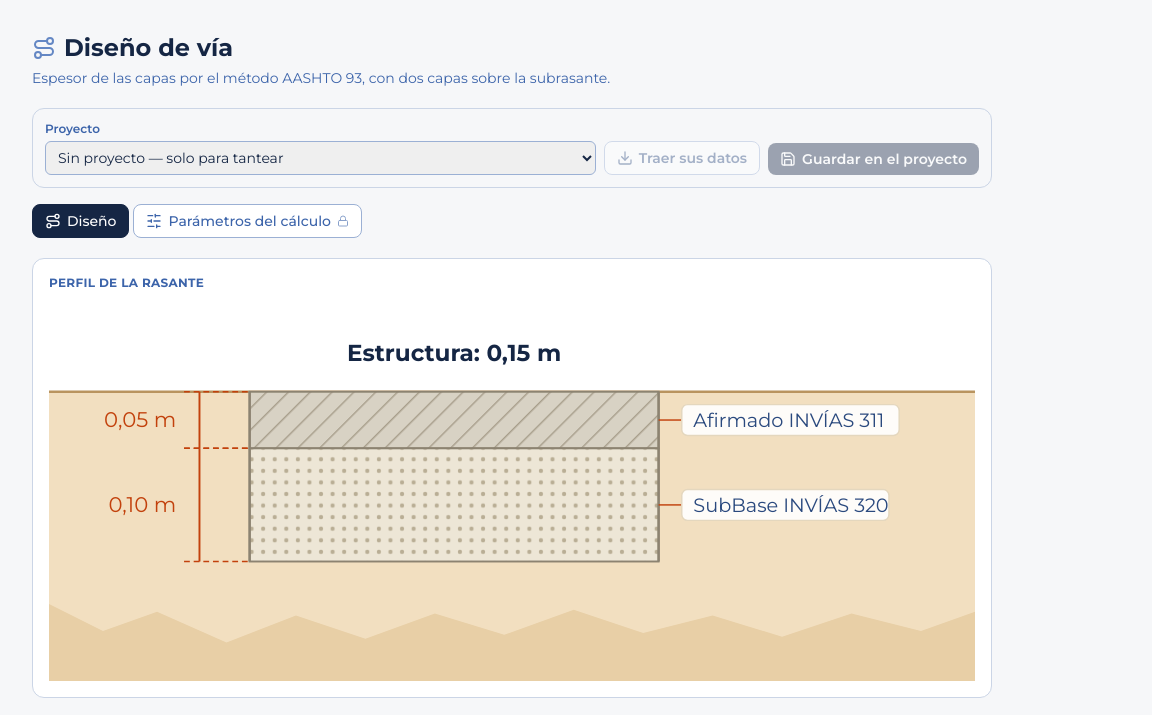
la pantalla › los parámetros del cálculo están en la otra pestaña
Click the button "Parámetros del cálculo": (248,221) [134,204,362,238]
(page scrolled)
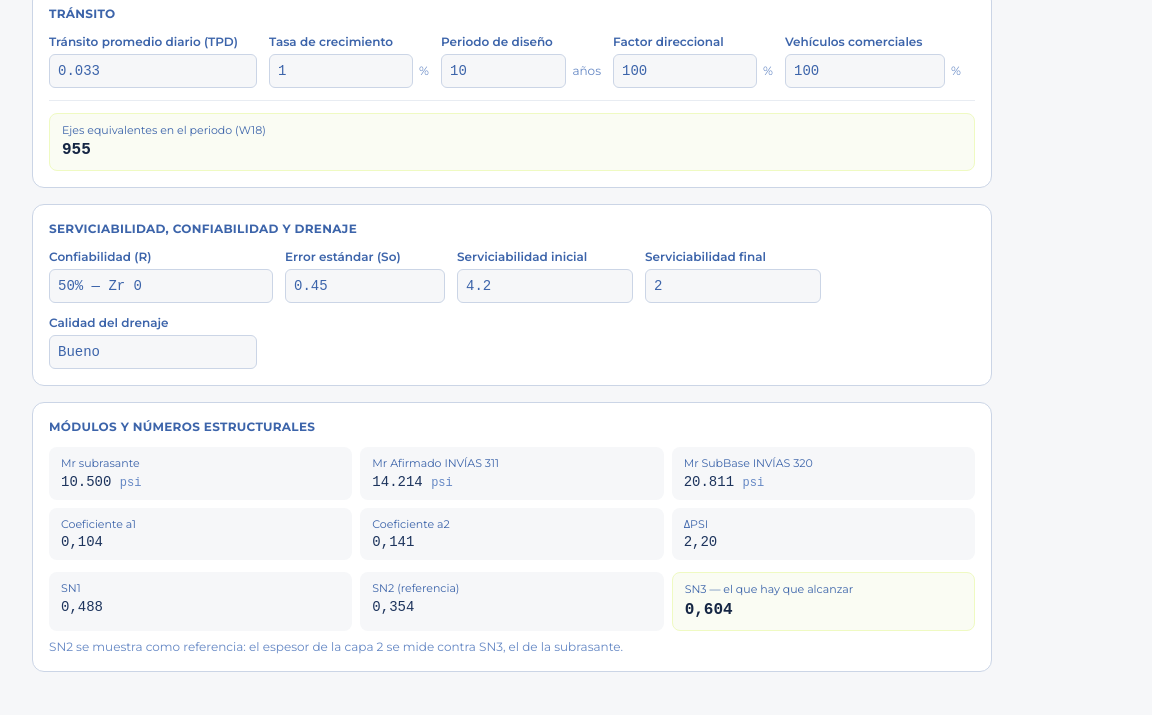
Result: the text "Tránsito" is shown at [49,6,116,20]
Result: the text "Serviciabilidad, confiabilidad y drenaje" is shown at [49,221,357,236]
Result: the text "Módulos y números estructurales" is shown at [49,419,315,434]
